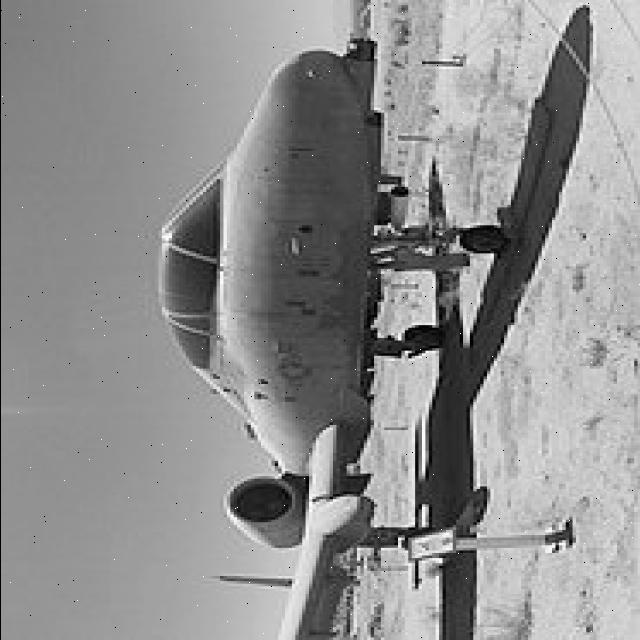A10: (121, 28, 523, 640)
